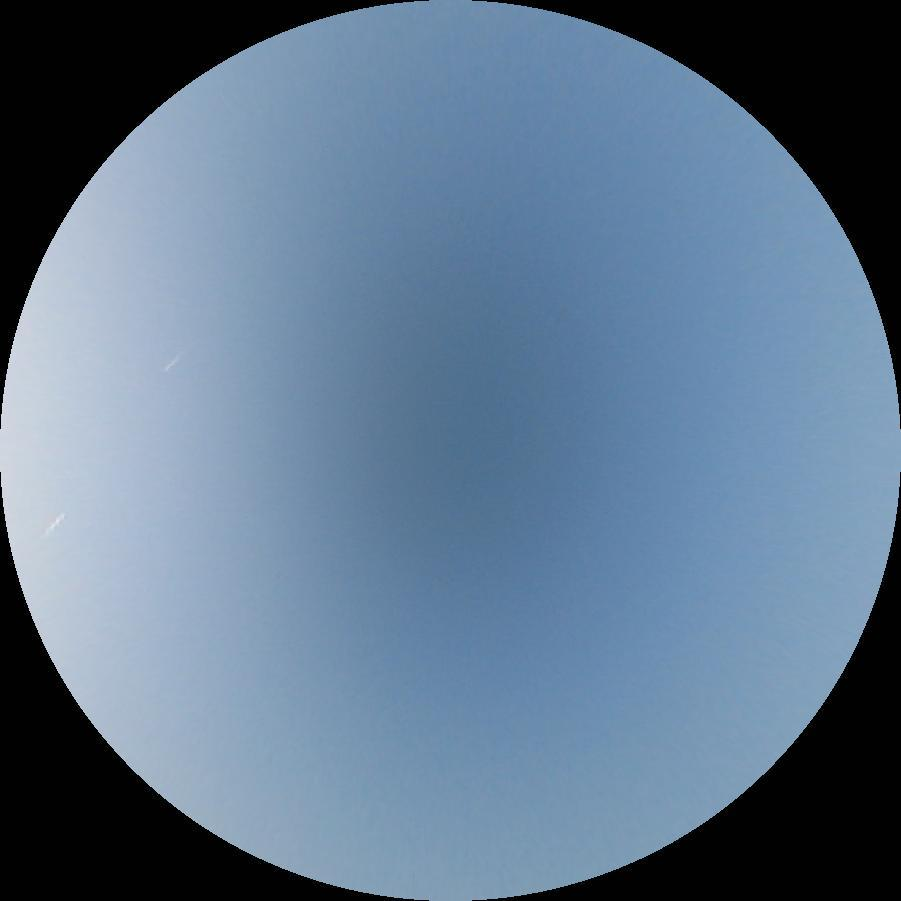contrail young: (39, 510, 68, 540), (161, 355, 180, 373)
